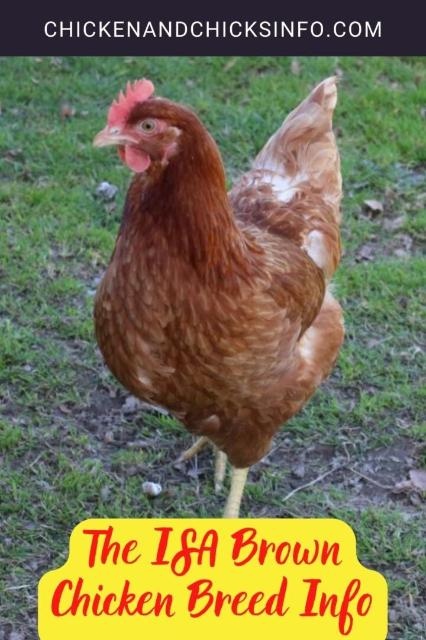Chicken: (89, 79, 350, 521)
